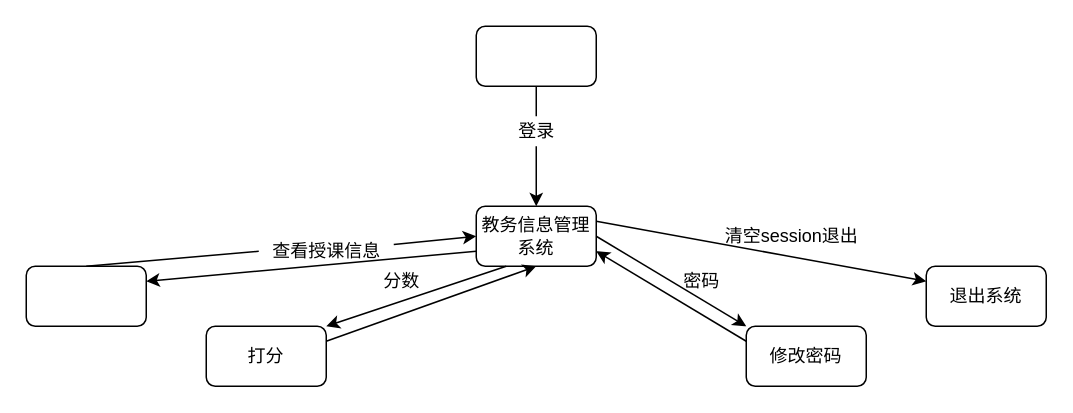
Image size: 1073x413. Some labels were removed from this diagram. Each missing label, with the centre of its shape:
教学课程: the point at 85,295
教师: the point at 535,55
